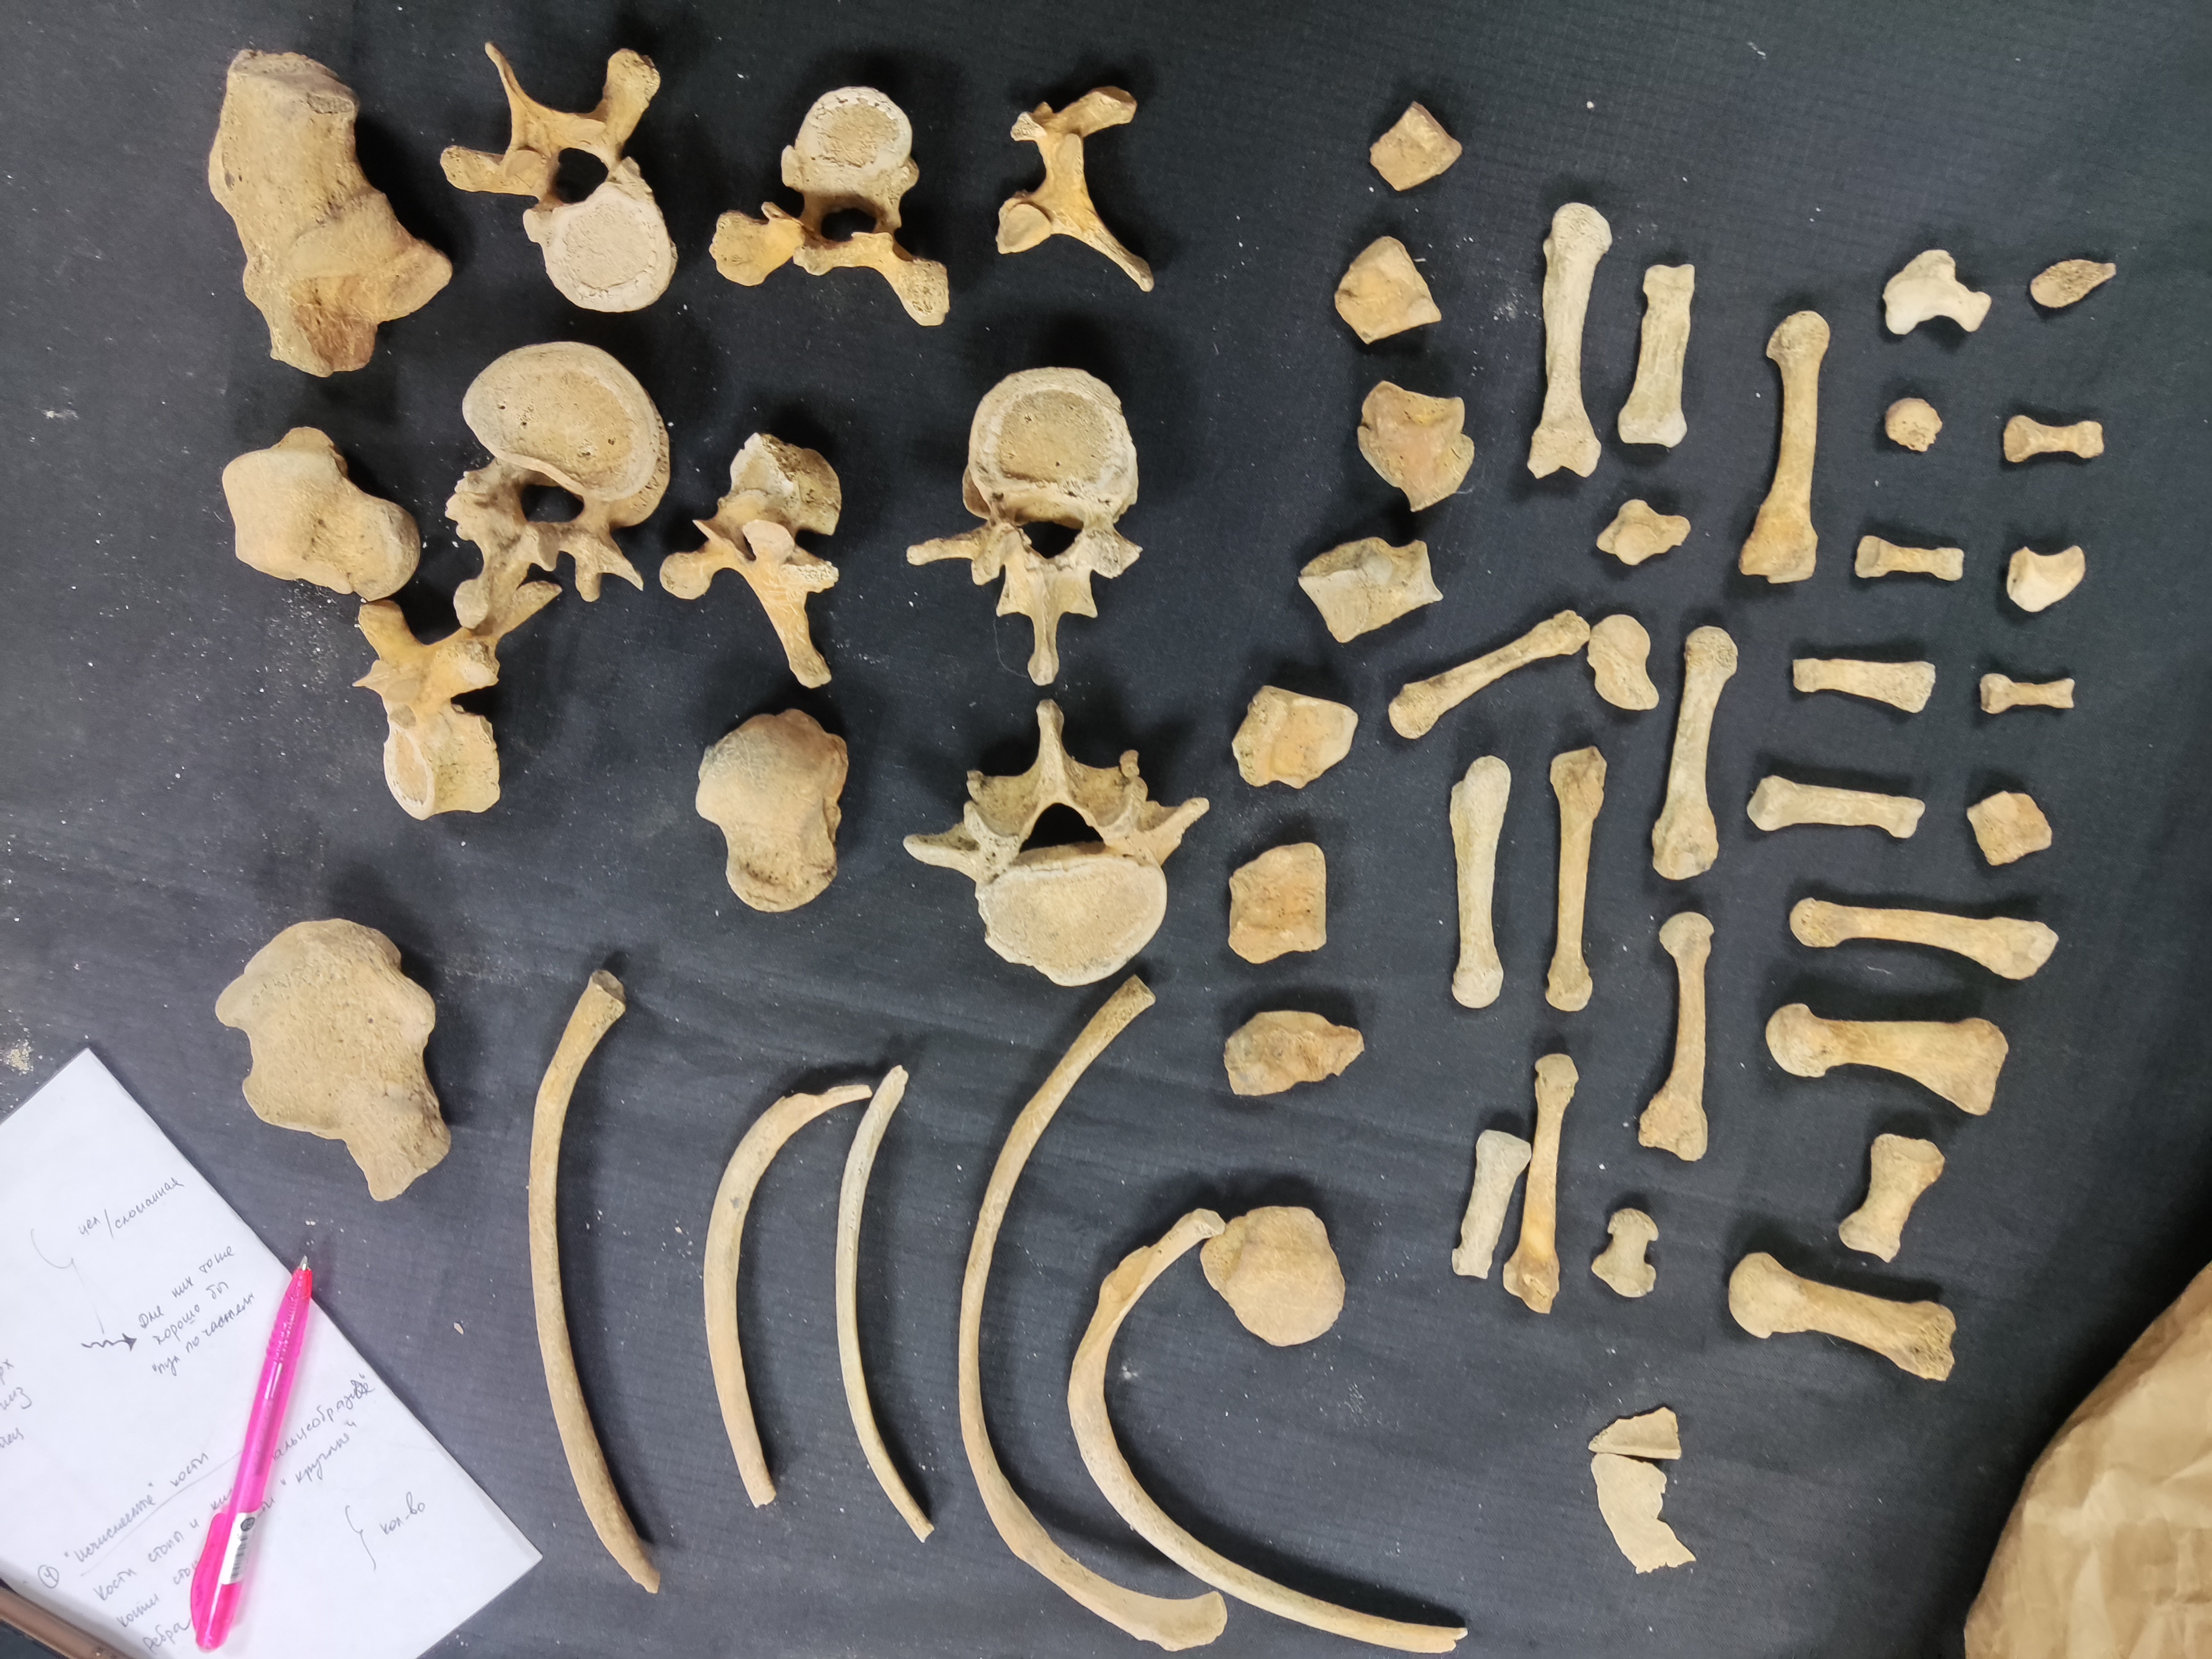грудной позвонок: (446, 21, 674, 305), (716, 105, 955, 320), (662, 431, 851, 671), (988, 81, 1168, 290), (353, 608, 500, 815)
поясничный позвонок: (901, 704, 1207, 991), (904, 362, 1153, 677), (443, 341, 656, 632)
пяточная: (212, 919, 452, 1192), (195, 104, 449, 359)
ребро: (946, 971, 1231, 1650), (1060, 1198, 1479, 1650), (512, 961, 668, 1593), (698, 1087, 868, 1503), (832, 1066, 940, 1551)
стопа: (1726, 1251, 1960, 1386), (1765, 998, 2009, 1116), (1383, 610, 1587, 740), (1734, 310, 1831, 582), (1786, 893, 2062, 982), (1526, 205, 1615, 478), (1651, 625, 1740, 881), (1206, 1211, 1347, 1348), (1639, 911, 1715, 1156), (1507, 1051, 1579, 1312), (1445, 758, 1512, 1010), (1348, 381, 1477, 512), (1547, 748, 1608, 1010), (1616, 263, 1698, 451), (1301, 539, 1446, 641), (1229, 686, 1363, 790), (1833, 1133, 1944, 1254), (1331, 231, 1446, 347), (1219, 1005, 1365, 1096), (1445, 1133, 1531, 1274), (1744, 776, 1928, 841), (1227, 850, 1327, 961), (1879, 249, 1992, 337), (1369, 106, 1464, 193), (1794, 655, 1938, 711), (1585, 615, 1657, 713), (1591, 497, 1693, 565), (1963, 794, 2052, 864), (1590, 1205, 1659, 1294), (1853, 534, 1965, 585), (2005, 547, 2090, 614), (1999, 413, 2108, 462), (2027, 258, 2119, 307), (1980, 672, 2080, 717), (1886, 399, 1942, 453)
таранная кость: (216, 425, 416, 602), (695, 707, 851, 916)
